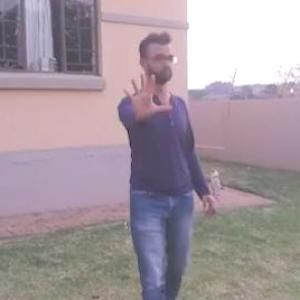follow_hand: (118, 65, 174, 121)
